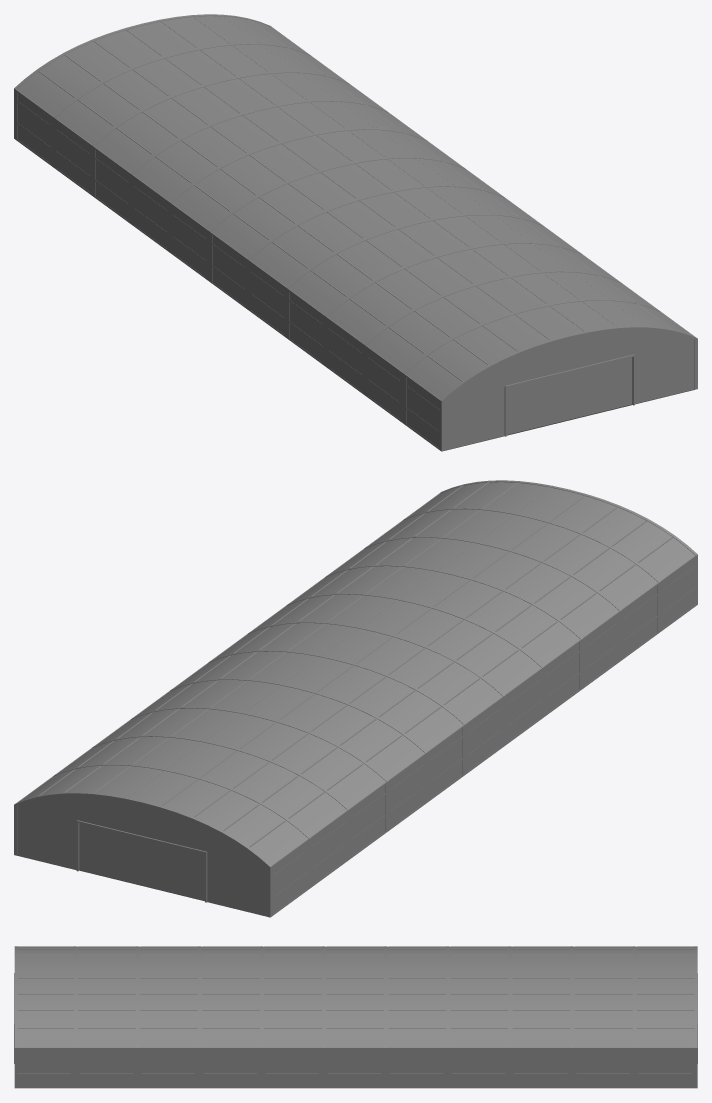
Rendered from warehouse_model.glb.
The picture shows the model from 3 angles, top to bottom: view 1: azimuth 30°, elevation 25°; view 2: azimuth 150°, elevation 25°; view 3: azimuth 270°, elevation 25°; orthographic projection. The views are drawn at different scales.
Visible parts, largest first — view 1: NurbsPath.005_Metal_0_4; view 2: NurbsPath.005_Metal_0_4; view 3: NurbsPath.005_Metal_0_4.
Boxes of the visible parts, left/top/right/bottom form: NurbsPath.005_Metal_0_4: left=14, top=14, right=697, bottom=451; NurbsPath.005_Metal_0_4: left=14, top=480, right=697, bottom=917; NurbsPath.005_Metal_0_4: left=14, top=946, right=697, bottom=1088.
Bounding box in the file's own units: 16 × 5.02 × 46.27.
3 materials, 1 textured.
